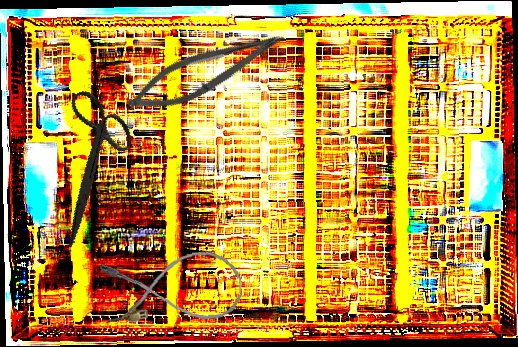Cannula: (99, 249, 244, 327)
Iris Scissors: (20, 80, 161, 247)
Micro Scissor: (120, 12, 292, 128)
